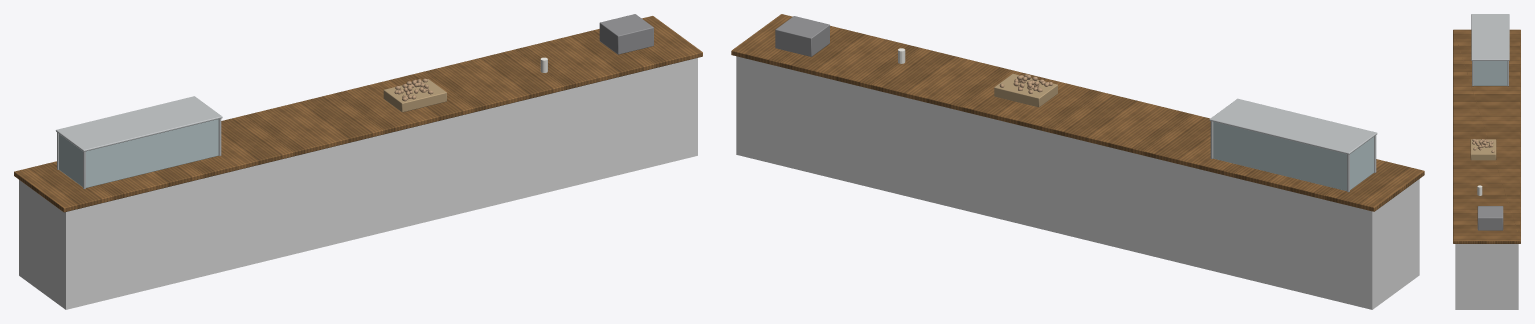
The model's file is snack_bar.glb.
3 renders of one model, left to right at view 1: azimuth 30°, elevation 25°; view 2: azimuth 150°, elevation 25°; view 3: azimuth 270°, elevation 25°, orthographic. The views are drawn at different scales.
Parts seen in each view (by area): view 1: COL_SnackBar, SnackBar; view 2: COL_SnackBar, SnackBar; view 3: SnackBar, COL_SnackBar.
Boxes of the visible parts, x1,y1,x2,y2 form: COL_SnackBar: (19,58,697,309); SnackBar: (14,14,702,212); COL_SnackBar: (736,56,1419,309); SnackBar: (731,14,1424,211); SnackBar: (1453,14,1520,243); COL_SnackBar: (1455,244,1518,309).
Size of the model in its own units: 7.08 by 1.52 by 0.9602.
Materials: 9 (2 with a texture image).
